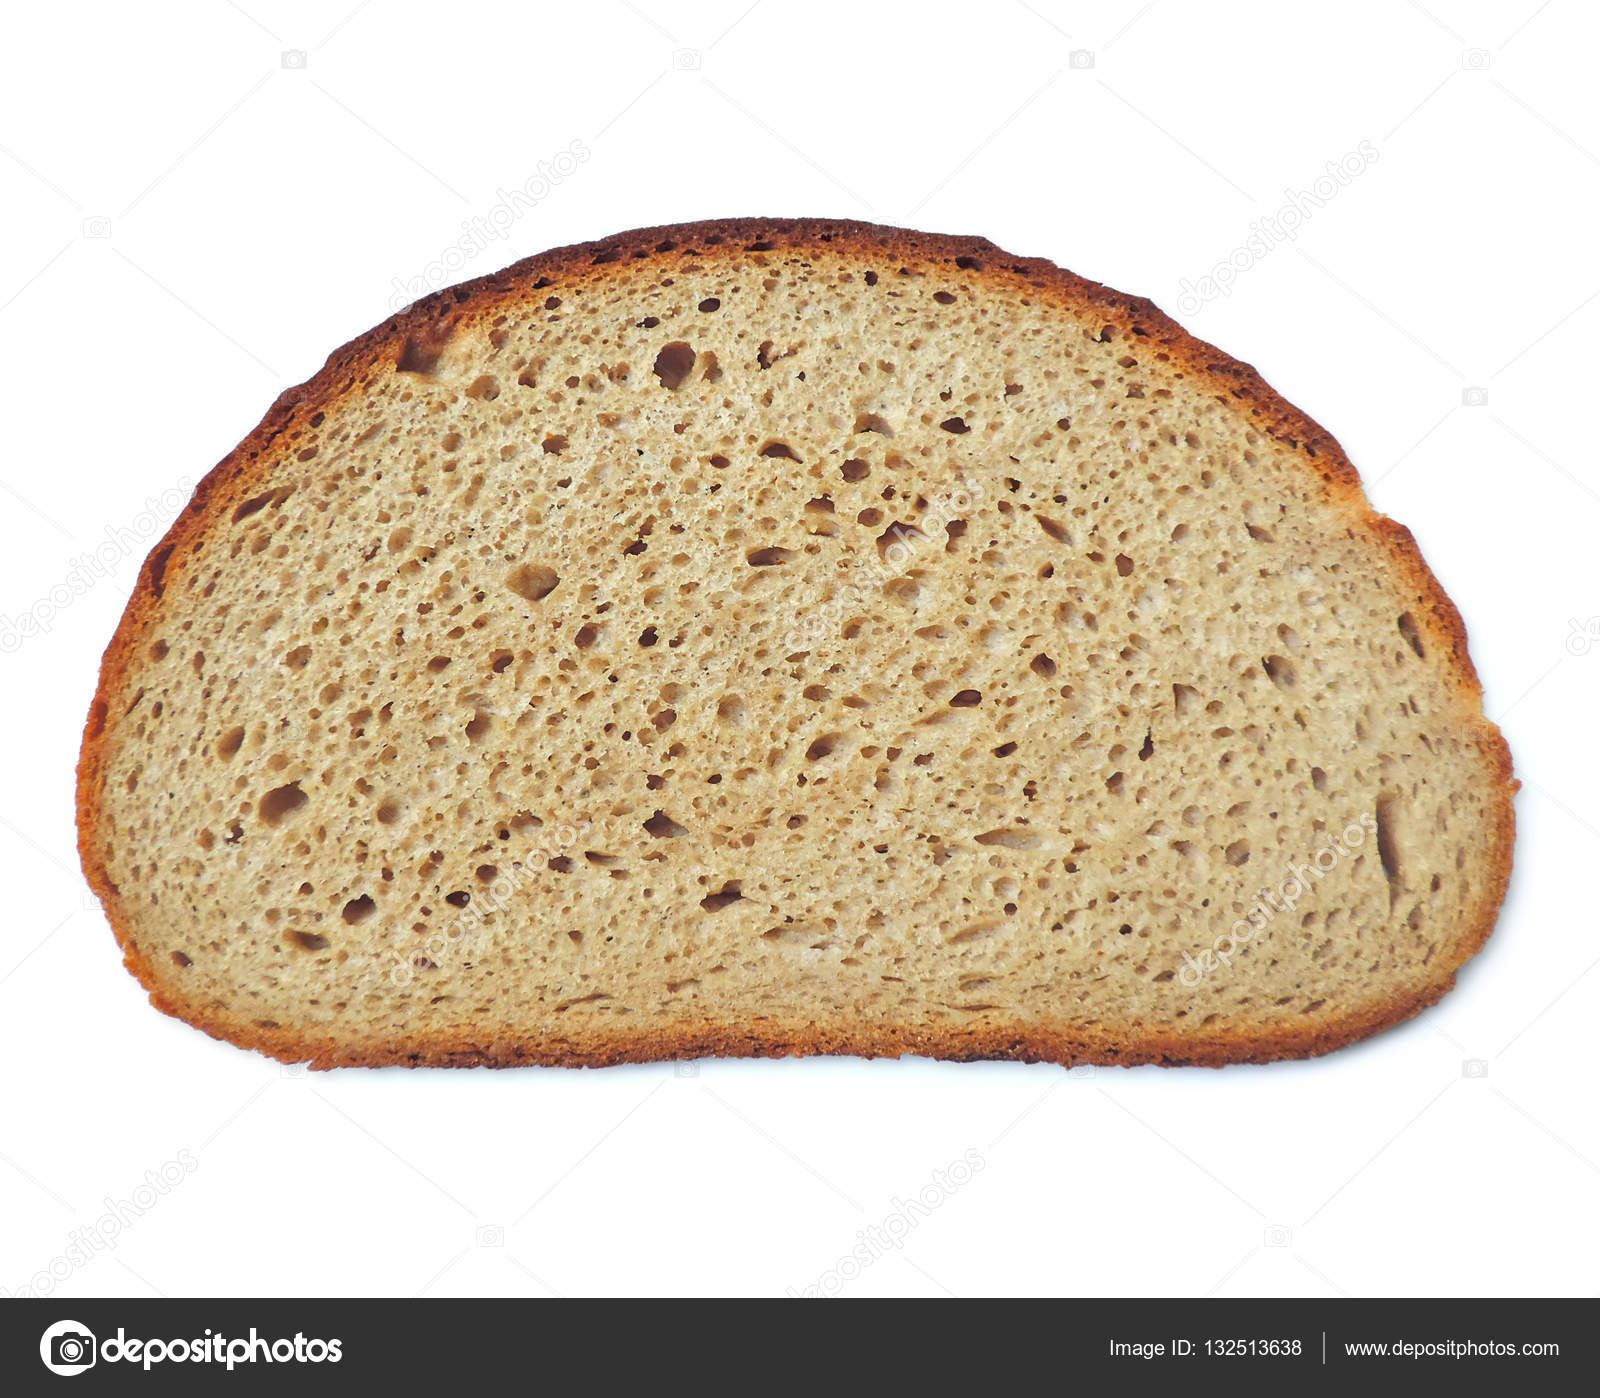slice of bread: (97, 248, 1503, 1059)
